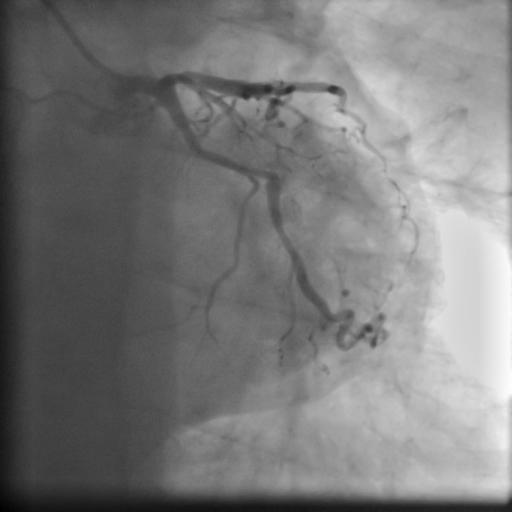Stenosis: (250, 163, 278, 184)
